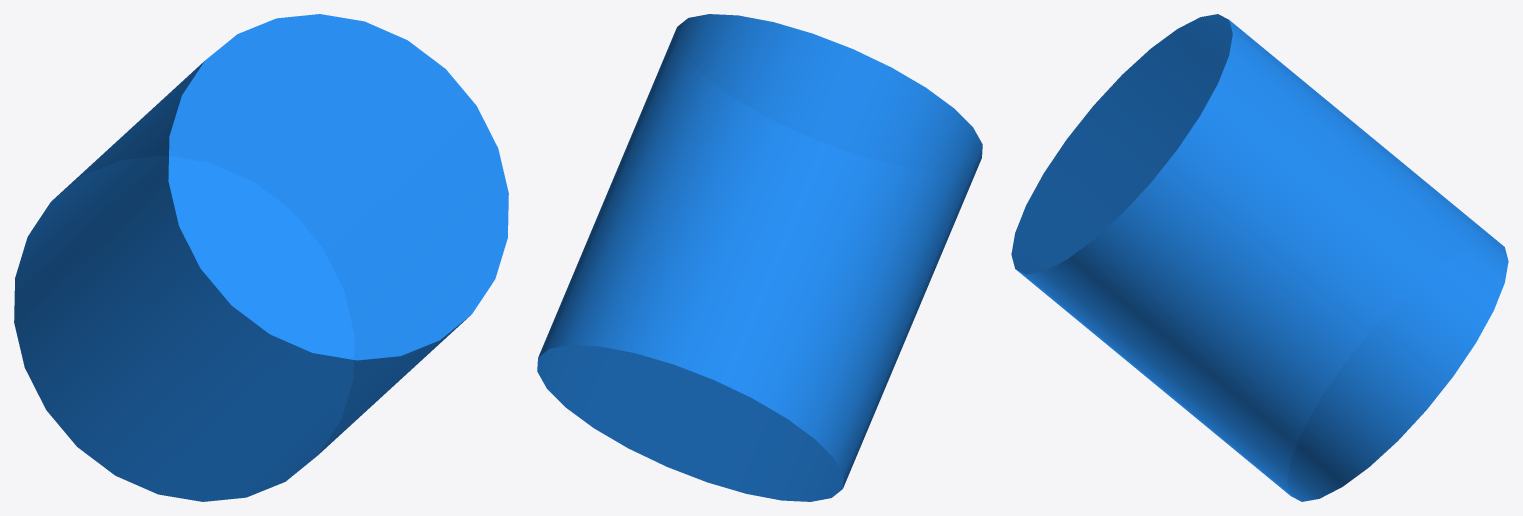
File: Event_108764385_MET.fbx
3 views of the same model, side by side, from view 1: azimuth 30°, elevation 25°; view 2: azimuth 150°, elevation 25°; view 3: azimuth 270°, elevation 25° (orthographic). The views are drawn at different scales.
Parts seen in each view (by area): view 1: Model; view 2: Model; view 3: Model.
Boxes of the visible parts, x1,y1,x2,y2 form: Model: (14, 14, 508, 501); Model: (537, 14, 982, 501); Model: (1011, 14, 1508, 501).
Size of the model in its own units: 0.04 by 0.0601 by 0.0604.
